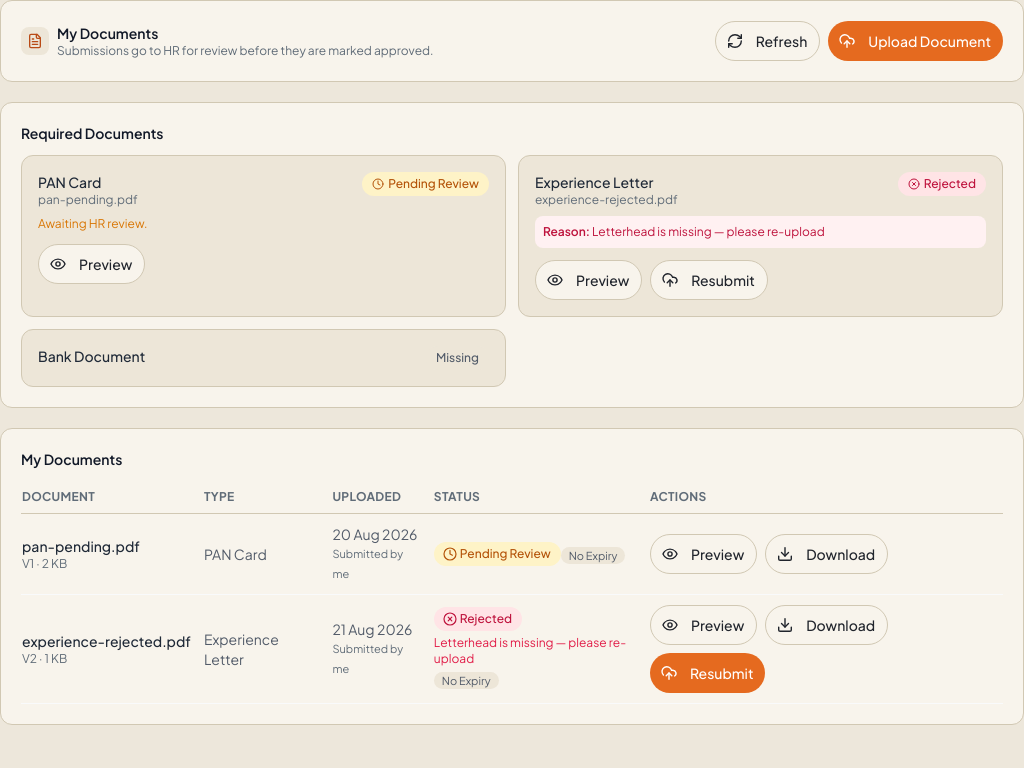
it: MyDocuments (employee self-service) › prefills the declared expiry when resubmitting a rejected document
Click the button "Resubmit" below "Reason:": (709, 280) [650,260,768,300]
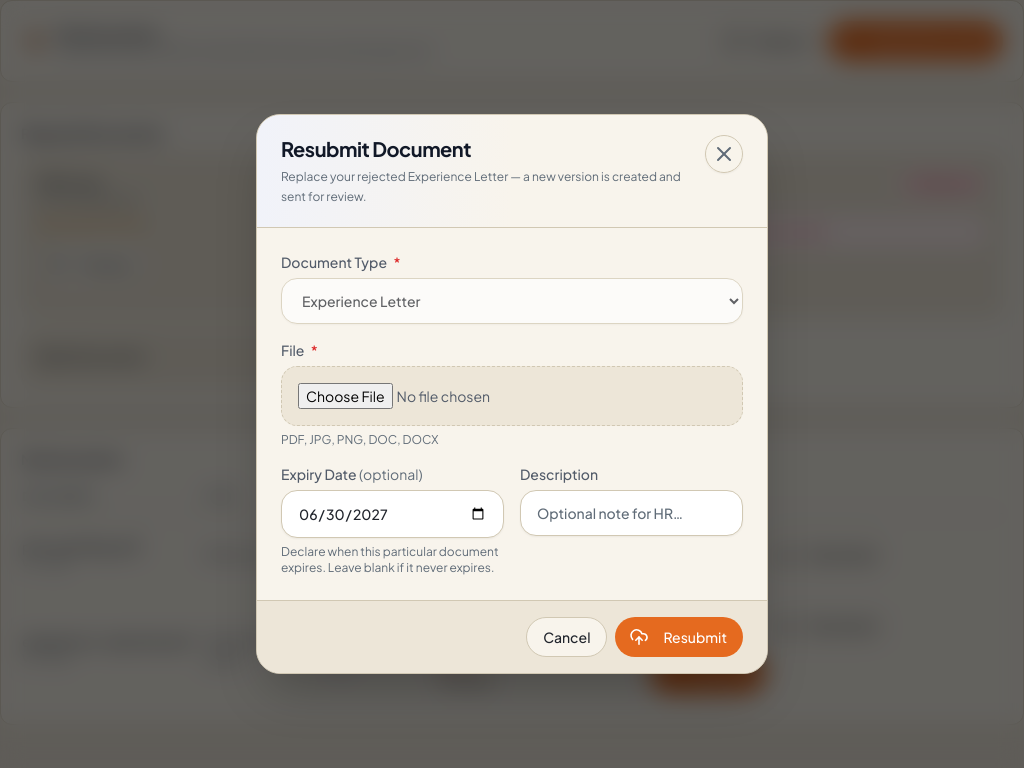
Now the date field named "Expiry date" holds "2027-06-30", box [281,490,504,538]
